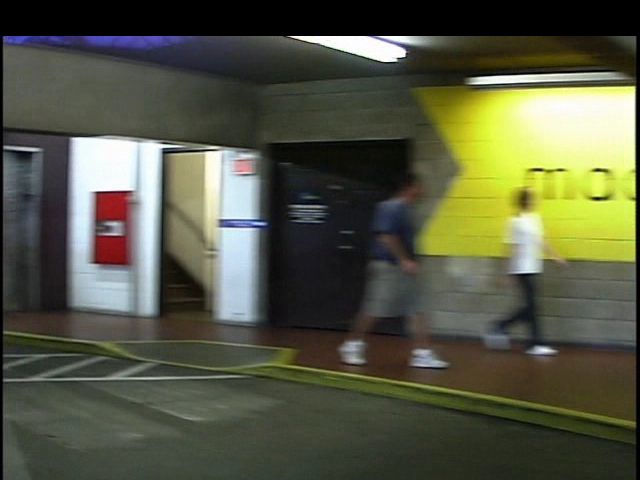person: (321, 169, 437, 373), (460, 179, 550, 361)
